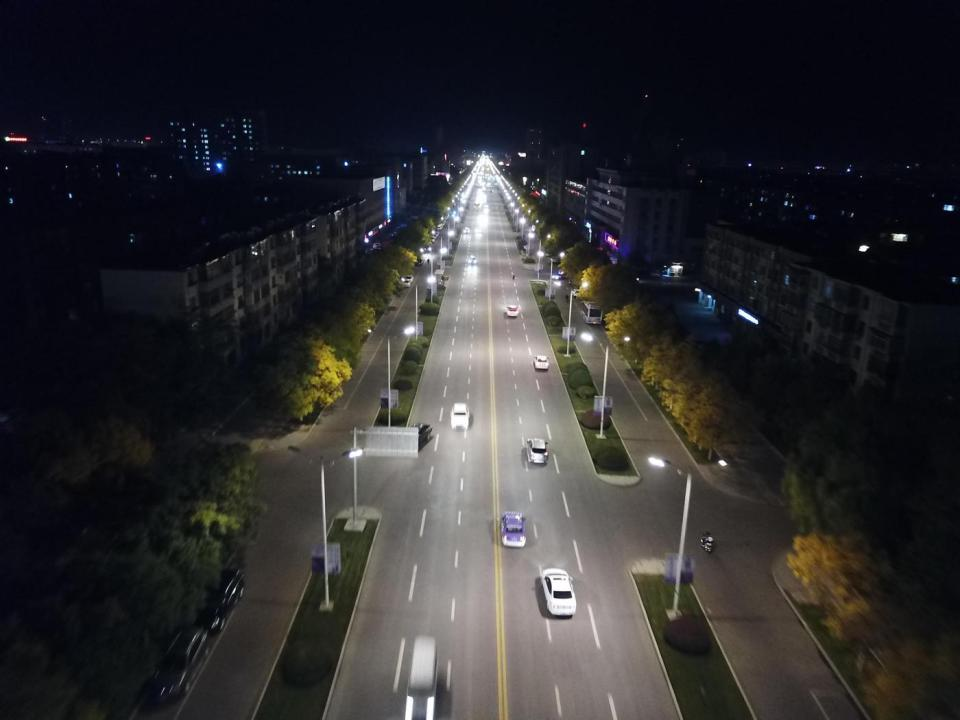bus: (581, 300, 602, 324), (475, 199, 480, 208)
car: (150, 626, 211, 699), (190, 569, 243, 632), (541, 567, 577, 617), (502, 508, 526, 548), (526, 435, 549, 463), (404, 423, 433, 444), (533, 353, 549, 370), (505, 303, 518, 320), (572, 289, 588, 298), (552, 271, 568, 279), (419, 244, 431, 253), (548, 256, 559, 264), (401, 279, 410, 287), (413, 258, 422, 266), (468, 255, 476, 263), (404, 275, 412, 282), (544, 252, 555, 257), (410, 214, 419, 219), (427, 236, 434, 242), (373, 243, 381, 248), (390, 232, 398, 237), (399, 222, 407, 227), (444, 208, 452, 213), (430, 233, 436, 239), (432, 230, 438, 236), (441, 213, 448, 218), (374, 246, 382, 250), (439, 220, 444, 226), (464, 227, 470, 232), (437, 223, 442, 228), (436, 225, 440, 231), (396, 226, 401, 230), (489, 188, 493, 192), (486, 183, 490, 187), (482, 186, 486, 190)
van: (402, 634, 439, 720), (450, 400, 472, 428)
